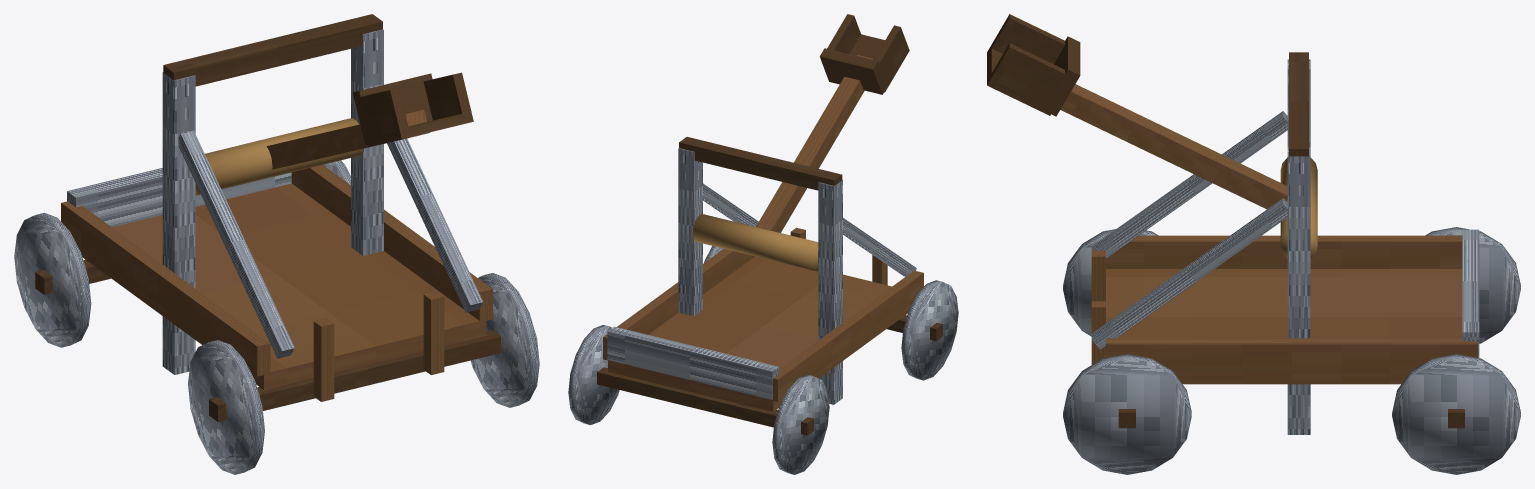
File: ae_catapult_small_iron_lod2.glb
3 views of the same model, side by side, from view 1: azimuth 30°, elevation 25°; view 2: azimuth 150°, elevation 25°; view 3: azimuth 270°, elevation 25° (orthographic). The views are drawn at different scales.
Parts seen in each view (by area): view 1: bed, sideL, post_L, wheel_FL_tyre, wheel_RL_tyre, cross_top, wheel_RR_tyre, sideR, post_R, brace_-0.72, axle_rear, front_stop (+10 smaller); view 2: bed, front_stop, sideL, post_L, wheel_FL_tyre, wheel_RL_tyre, arm_beam, post_R, skein, cross_top, axle_front, wheel_FR_tyre (+7 smaller); view 3: bed, wheel_RR_tyre, wheel_FR_tyre, sideR, sideL, arm_beam, post_R, brace_0.72, brace_-0.72, wheel_FL_tyre, spoon_R, wheel_RL_tyre (+8 smaller).
Boxes of the visible parts, x1,y1,x2,y2 form: bed: [77, 183, 486, 389]; sideL: [61, 201, 270, 376]; post_L: [162, 72, 195, 374]; wheel_FL_tyre: [14, 212, 91, 347]; wheel_RL_tyre: [188, 340, 264, 474]; cross_top: [163, 14, 382, 86]; wheel_RR_tyre: [470, 273, 539, 407]; sideR: [291, 165, 492, 322]; post_R: [351, 29, 383, 255]; brace_-0.72: [178, 131, 294, 358]; axle_rear: [209, 330, 500, 421]; front_stop: [67, 168, 291, 227]; bed: [608, 256, 911, 411]; front_stop: [607, 326, 779, 399]; sideL: [771, 270, 923, 401]; post_L: [818, 179, 842, 404]; wheel_FL_tyre: [772, 374, 829, 474]; wheel_RL_tyre: [901, 280, 958, 380]; arm_beam: [756, 55, 873, 232]; post_R: [678, 148, 702, 316]; skein: [692, 214, 818, 271]; cross_top: [679, 137, 842, 190]; axle_front: [597, 367, 813, 435]; wheel_FR_tyre: [568, 325, 619, 424]; bed: [1106, 269, 1462, 384]; wheel_RR_tyre: [1063, 354, 1191, 474]; wheel_FR_tyre: [1392, 354, 1520, 474]; sideR: [1106, 338, 1477, 372]; sideL: [1106, 235, 1462, 268]; arm_beam: [1060, 84, 1287, 209]; post_R: [1287, 146, 1310, 434]; brace_0.72: [1091, 198, 1287, 349]; brace_-0.72: [1091, 111, 1287, 258]; wheel_FL_tyre: [1425, 227, 1520, 343]; spoon_R: [990, 43, 1072, 109]; wheel_RL_tyre: [1063, 229, 1158, 336].
Bounding box in the file's own units: 2.3 × 2.92 × 3.73.
3 materials, 3 textured.
